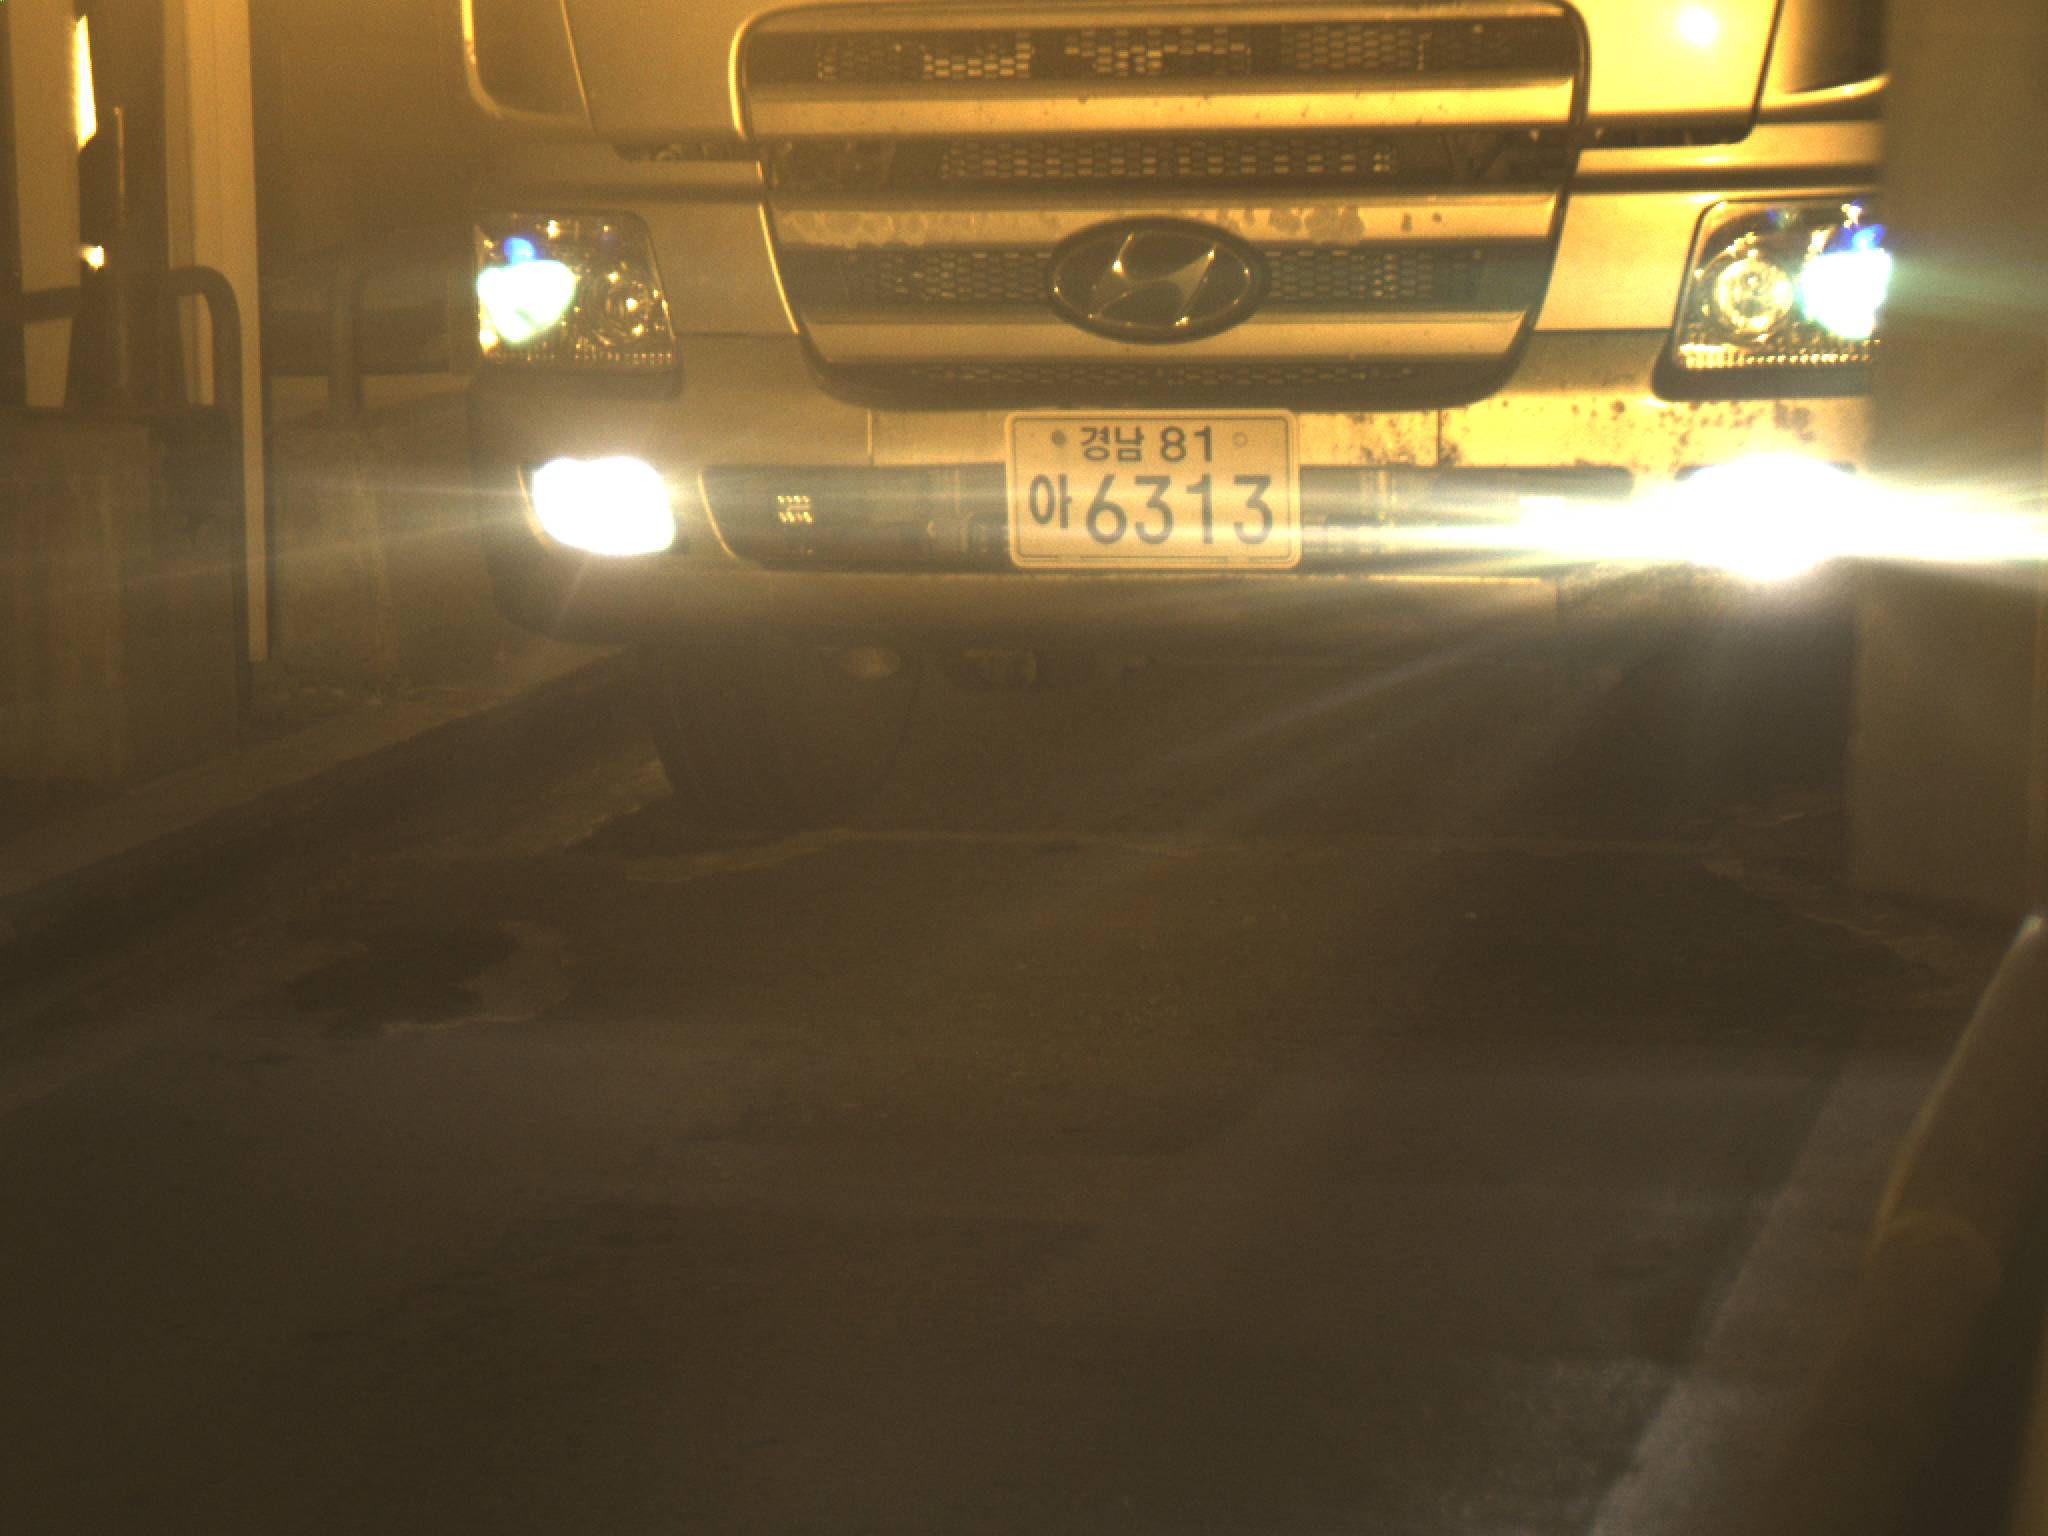car: (438, 1, 1863, 832)
plate: (1002, 404, 1304, 572)
